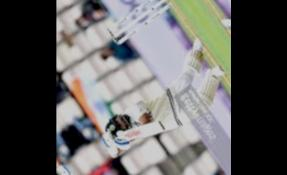batsman: (96, 15, 224, 175)
